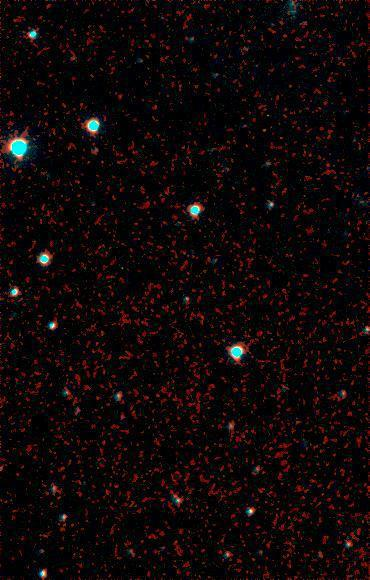star: (287, 409, 317, 439)
